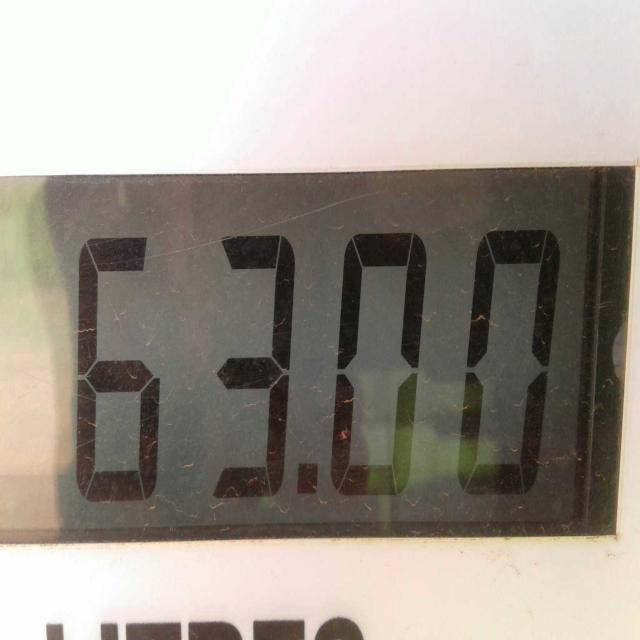.: (281, 441, 322, 514)
0: (448, 219, 562, 506), (325, 222, 437, 503)
3: (203, 228, 304, 502)
6: (70, 229, 179, 505)
